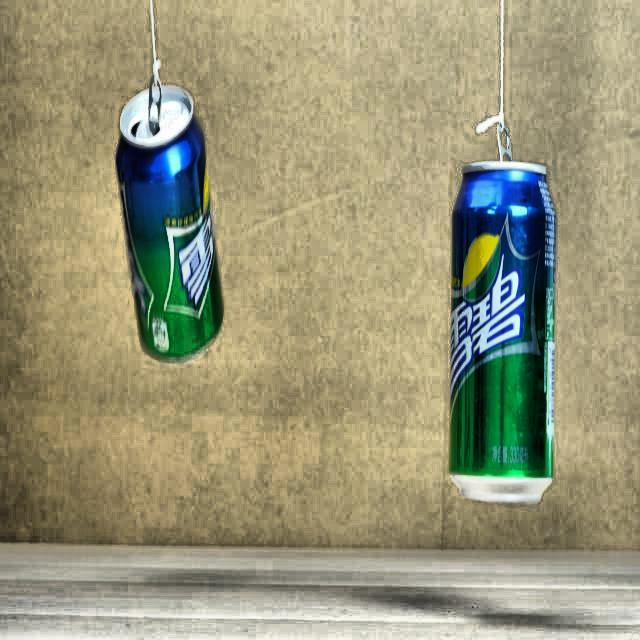can: (442, 157, 562, 509), (100, 74, 233, 360)
